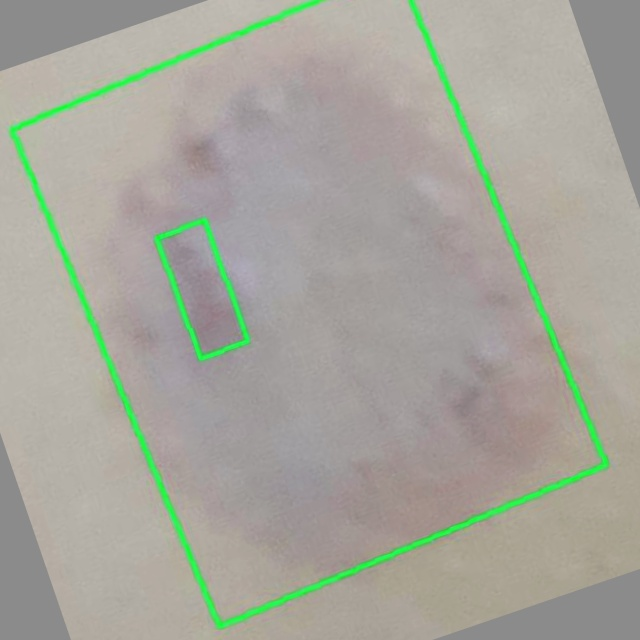Eczema: (11, 0, 607, 626), (157, 220, 248, 359)
